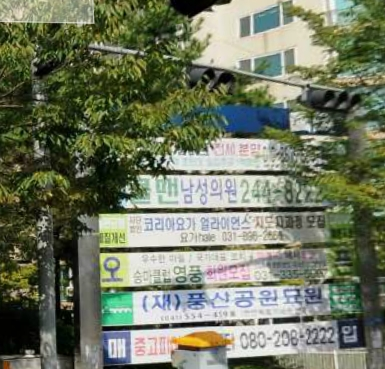banner: (100, 278, 365, 333), (93, 247, 366, 296), (96, 210, 355, 252), (87, 328, 368, 361), (109, 177, 342, 206)
